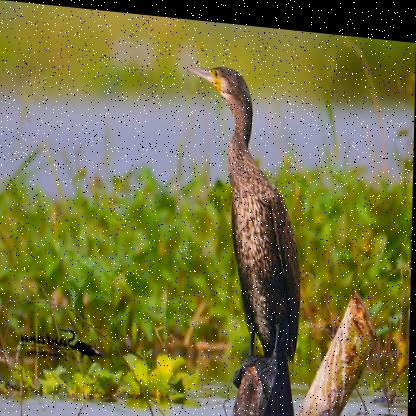Burung: (180, 60, 306, 381)
